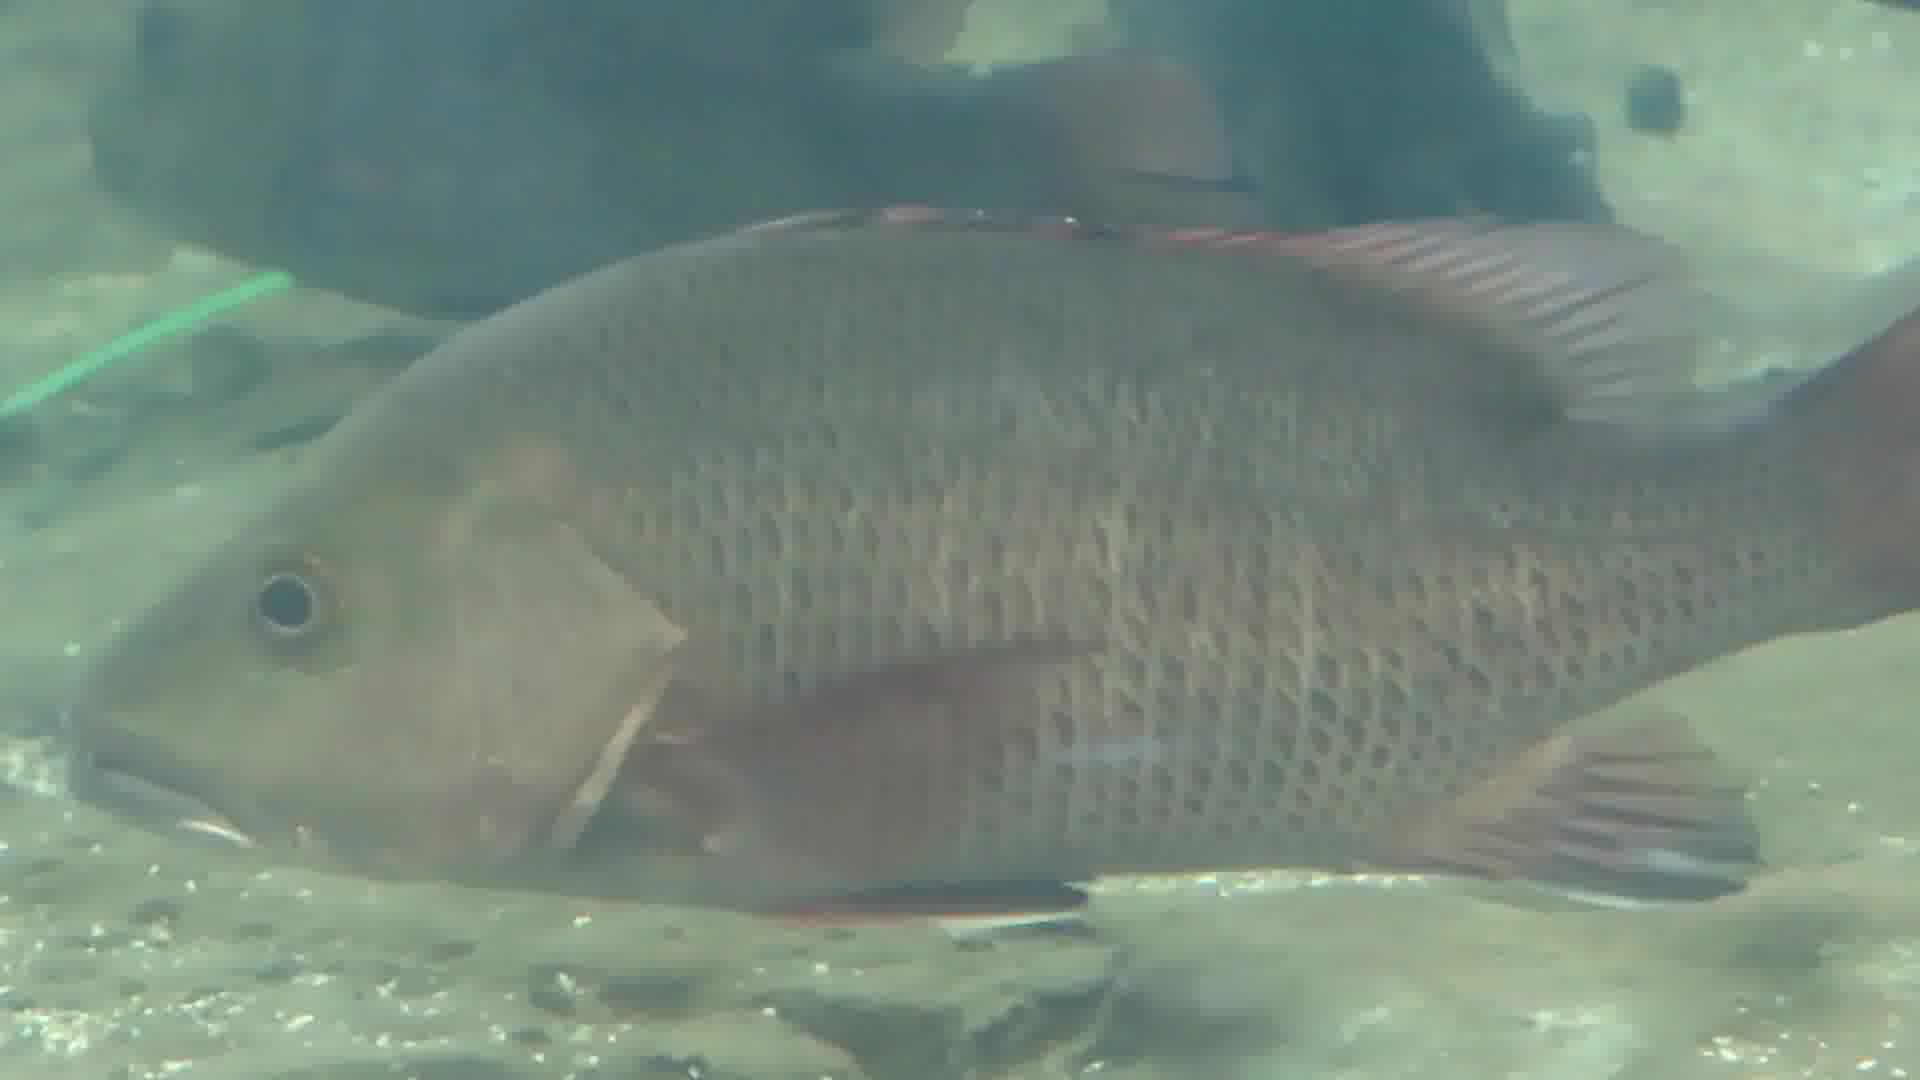Lutjanus argentimaculatus: (70, 215, 1904, 926)
